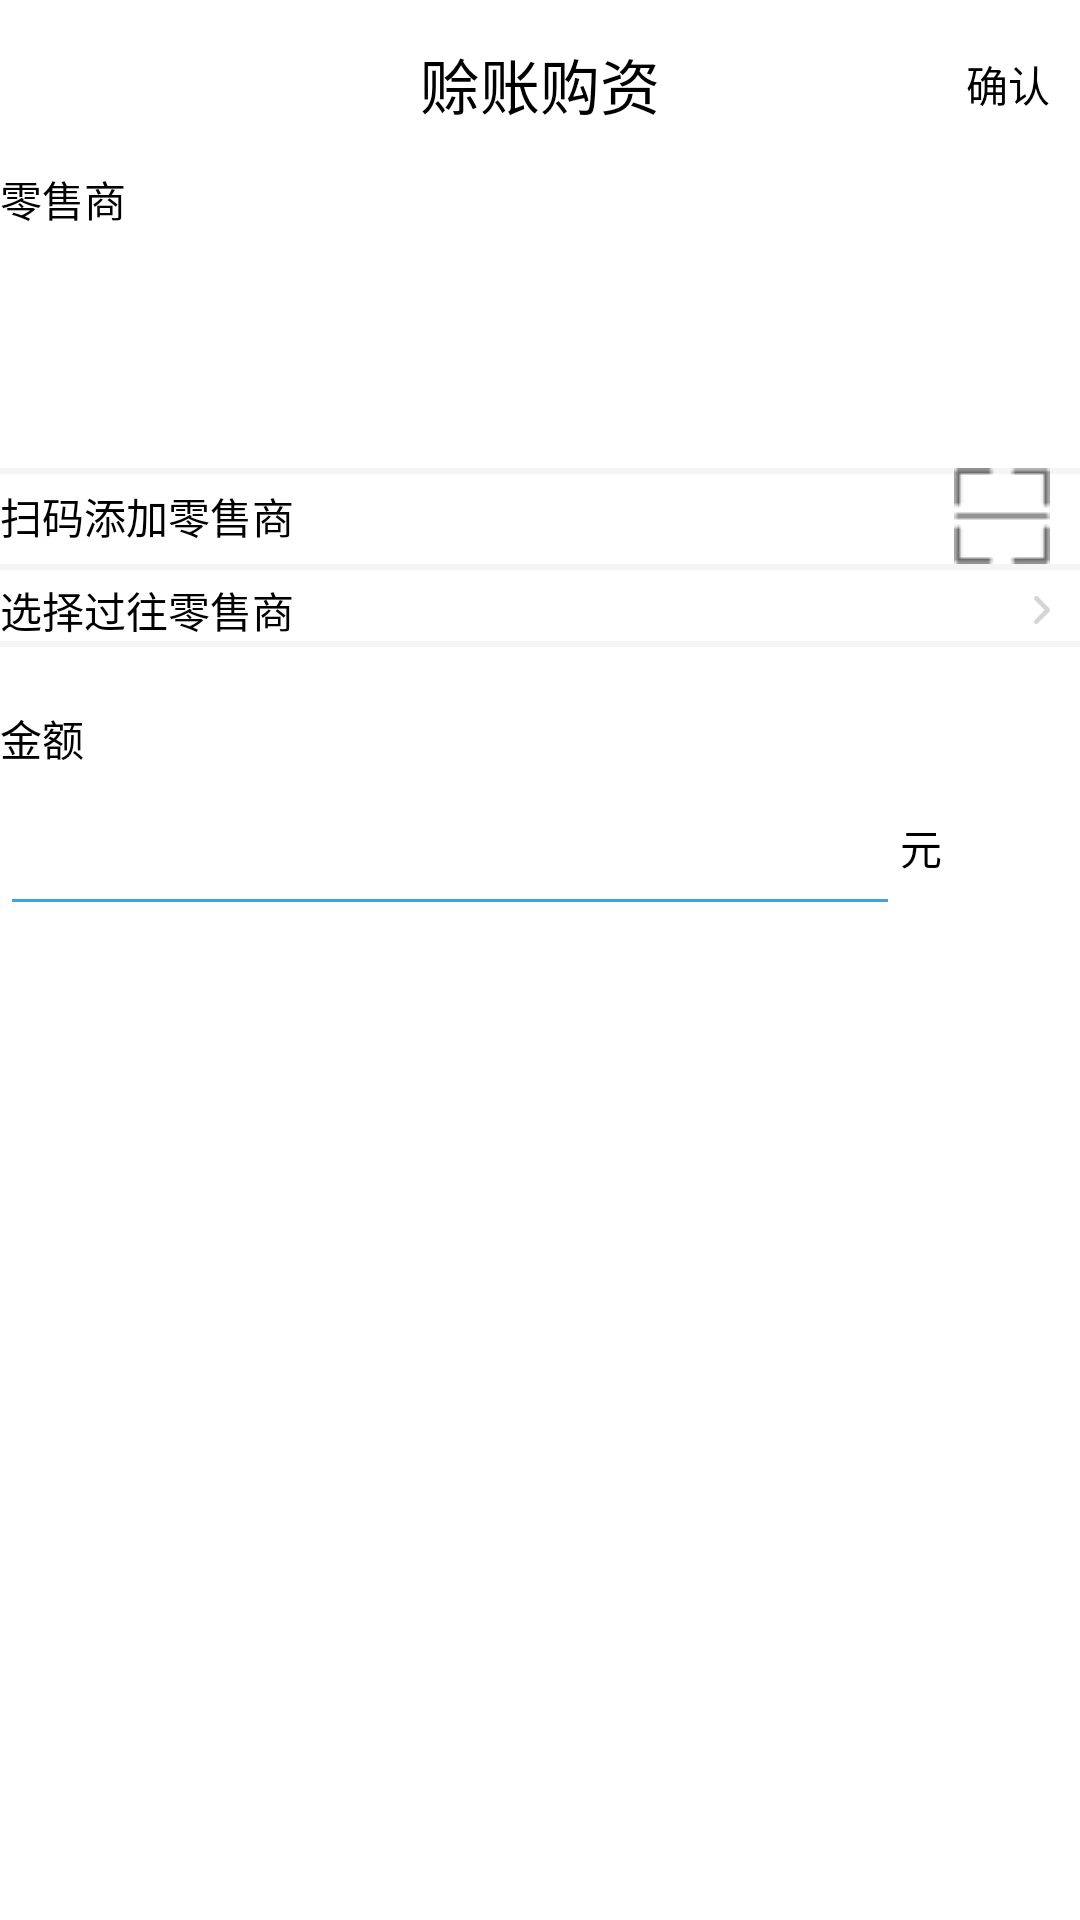

Where to tap for icons on this 1080w x 1920h app screen, as point (x, y):
scan: point (1002, 516)
